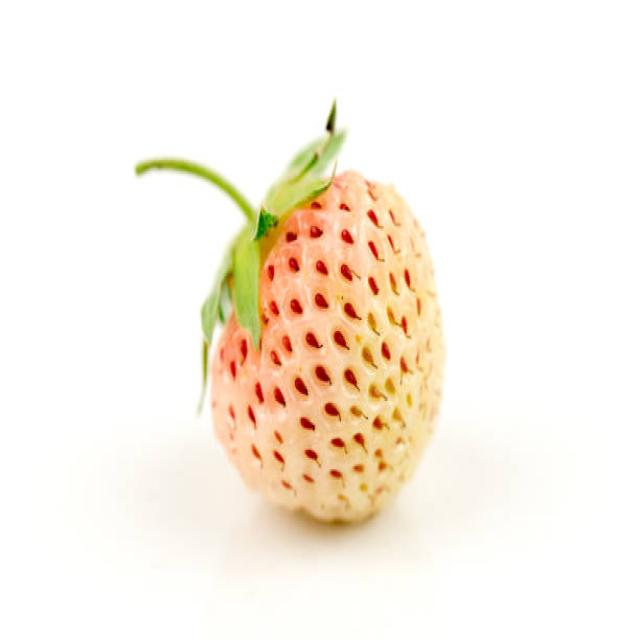Healthy Fruit: (210, 171, 444, 529)
